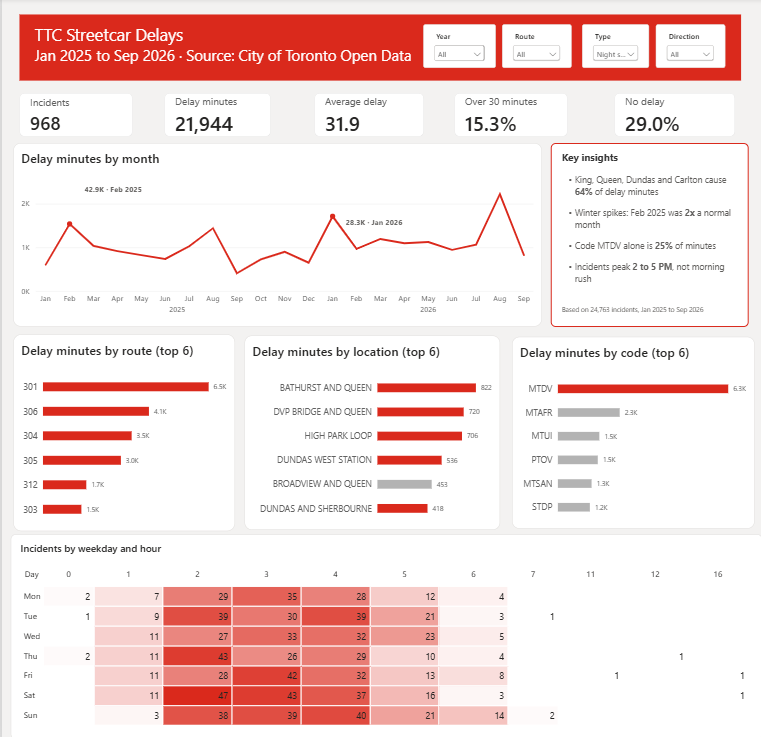

The page's visual inventory and layout, read from the dashboard file:
{"tool":"powerbi","page":{"name":"Page 1","canvas":[1230,1200],"ordinal":0},"visuals":[{"type":"shape","box":[16.7,16.7,1185,126.7],"z":0},{"type":"clusteredBarChart","title":"Delay minutes by route (top 6)","fields":{"Category":["Fact_Delays.Route"],"Y":["_Measures.Total Delay Min"]},"box":[18.6,540,356.5,316.7],"z":1000},{"type":"clusteredBarChart","title":"Delay minutes by location (top 6)","fields":{"Category":["Fact_Delays.Location"],"Y":["_Measures.Total Delay Min"]},"box":[390,542.9,411.4,312.9],"z":2000},{"type":"textbox","box":[40,30,641.7,95],"z":3000},{"type":"slicer","fields":{"Values":["Dim_Date.Year"]},"box":[676.7,41.7,116.7,70],"z":4000},{"type":"slicer","fields":{"Values":["Fact_Delays.Route"]},"box":[805,41.7,111.7,70],"z":5000},{"type":"slicer","fields":{"Values":["Fact_Delays.Route Type"]},"box":[933.3,41.7,108.3,70],"z":6000},{"type":"slicer","fields":{"Values":["Fact_Delays.Direction"]},"box":[1051.7,41.7,111.7,70],"z":7000},{"type":"cardVisual","title":"Incidents","fields":{"Data":["_Measures.Total Incidents"]},"box":[16.7,143.3,206.7,90],"z":8000},{"type":"cardVisual","fields":{"Data":["_Measures.Total Delay Min"]},"box":[248.3,143.3,195,90],"z":9000},{"type":"cardVisual","fields":{"Data":["_Measures.Avg Delay Min"]},"box":[490,143.3,200,90],"z":10000},{"type":"cardVisual","fields":{"Data":["_Measures.% Over 30 Min"]},"box":[715,143.3,206.7,90],"z":11000},{"type":"lineChart","title":"Delay minutes by month","fields":{"Category":["Dim_Date.Year","Dim_Date.Month"],"Y":["_Measures.Total Delay Min"]},"box":[18.3,233.3,850,295],"z":12000},{"type":"cardVisual","fields":{"Data":["_Measures.% No Delay"]},"box":[972.9,142.9,218.6,90],"z":13000},{"type":"clusteredBarChart","title":"Delay minutes by code (top 6)","fields":{"Category":["Fact_Delays.Code"],"Y":["_Measures.Total Delay Min"]},"box":[820,545.7,390,308.6],"z":14000},{"type":"pivotTable","title":"Incidents by weekday and hour","fields":{"Columns":["Fact_Delays.Hour"],"Rows":["Dim_Date.Weekday"],"Values":["_Measures.Total Incidents"]},"box":[14.1,862.6,1208.5,329.8],"z":15000},{"type":"textbox","box":[120,290,140,38.3],"z":16000},{"type":"textbox","box":[540,341.7,137.2,39.2],"z":17000},{"type":"textbox","box":[882.9,232.9,318.6,295.7],"z":19000}]}

Visuals, with their boxes in screenshot pixels (x1, y1, x2, y2), scaled from the page's 1230x1200 canvas onto the 761x737 screenshot:
shape: 10/10/743/88
"Delay minutes by route (top 6)" clusteredBarChart: 12/332/232/526
"Delay minutes by location (top 6)" clusteredBarChart: 241/333/496/526
textbox: 25/18/422/77
slicer - Dim_Date.Year: 419/26/491/69
slicer - Fact_Delays.Route: 498/26/567/69
slicer - Fact_Delays.Route Type: 577/26/644/69
slicer - Fact_Delays.Direction: 651/26/720/69
"Incidents" cardVisual: 10/88/138/143
cardVisual - _Measures.Total Delay Min: 154/88/274/143
cardVisual - _Measures.Avg Delay Min: 303/88/427/143
cardVisual - _Measures.% Over 30 Min: 442/88/570/143
"Delay minutes by month" lineChart: 11/143/537/324
cardVisual - _Measures.% No Delay: 602/88/737/143
"Delay minutes by code (top 6)" clusteredBarChart: 507/335/749/525
"Incidents by weekday and hour" pivotTable: 9/530/756/732
textbox: 74/178/161/202
textbox: 334/210/419/234
textbox: 546/143/743/325
